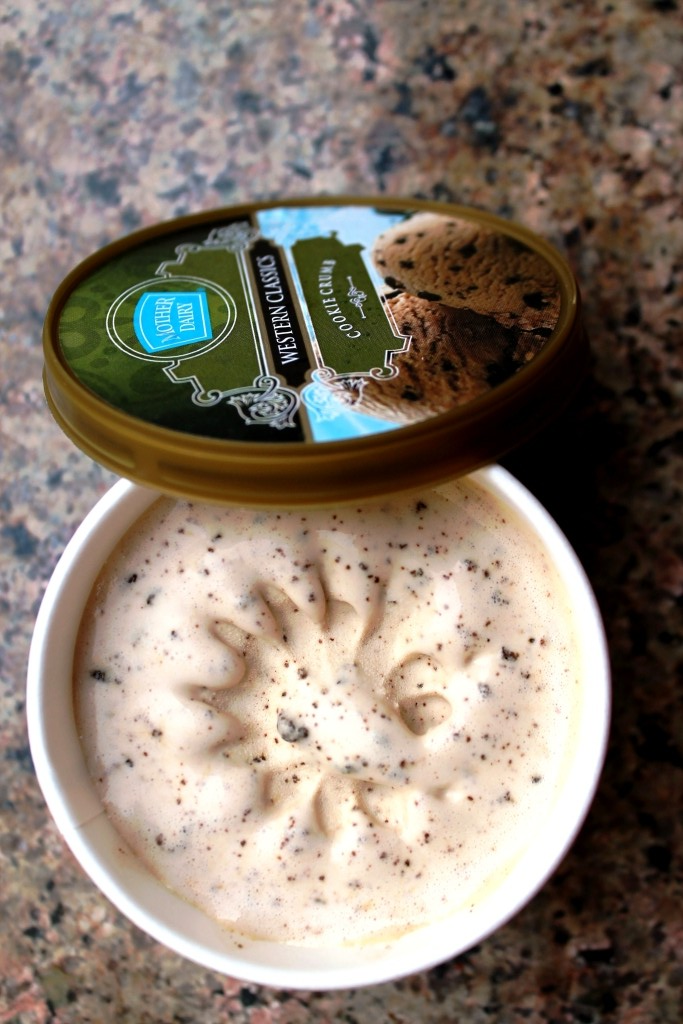Mother_Dairy: (113, 274, 230, 377)
